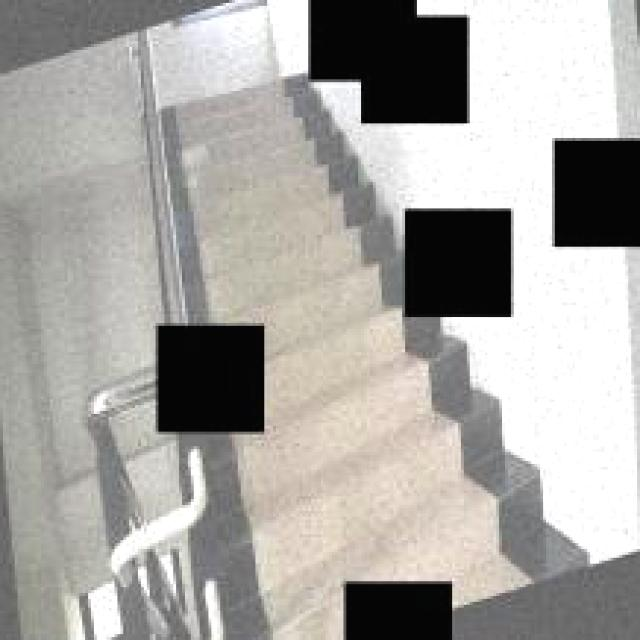upstair: (171, 136, 380, 274)
